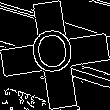O_S: (29, 27, 81, 83)
